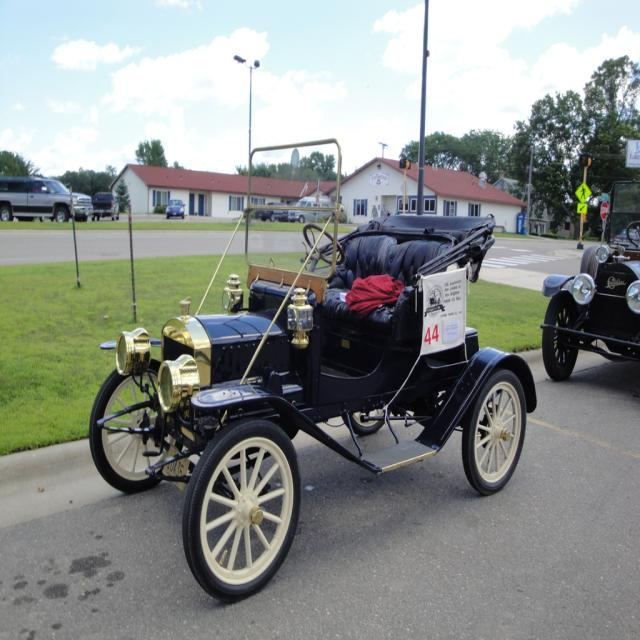car: (164, 198, 185, 219)
